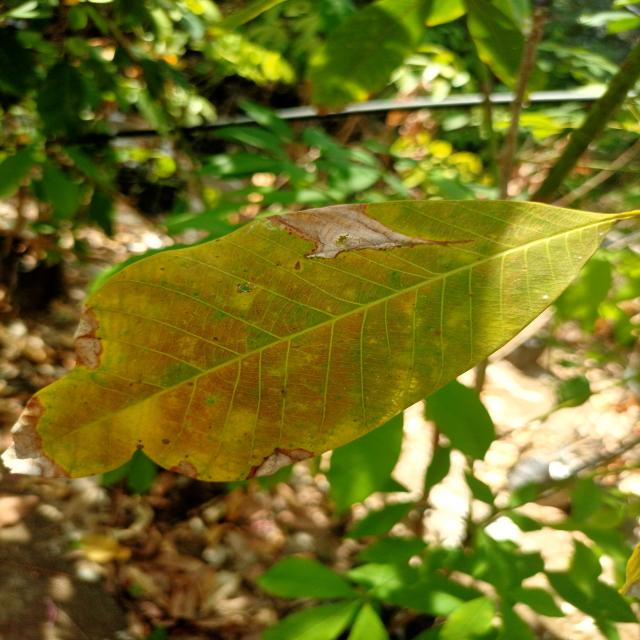Colletotrichum: (161, 438, 170, 444)
Leaf-Blight: (266, 203, 432, 259), (0, 396, 73, 479), (72, 303, 103, 371), (253, 452, 293, 476), (178, 460, 198, 479)
